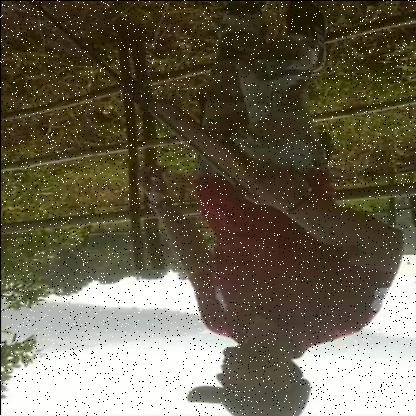rifle: (23, 0, 368, 258)
